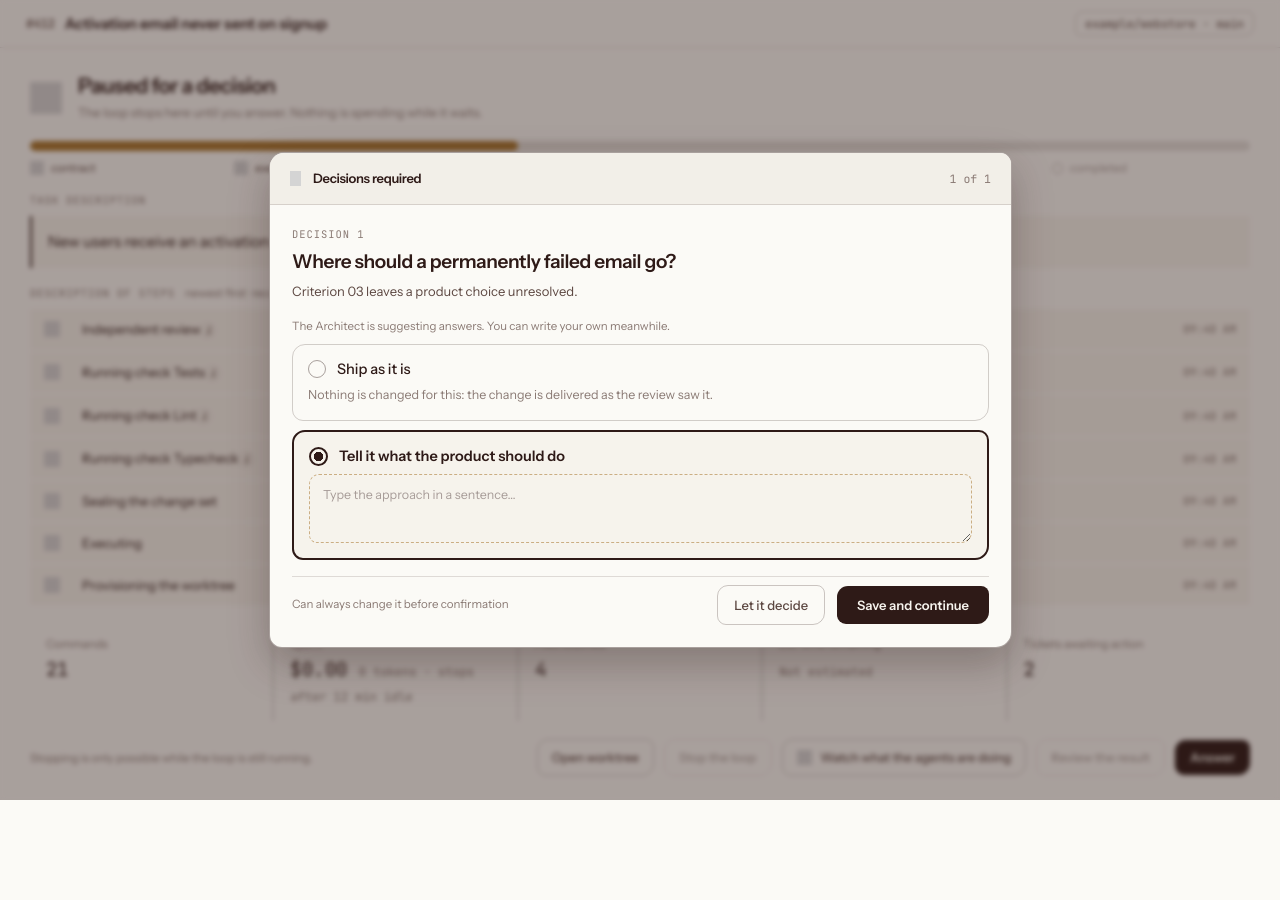
Test: a decision beside a run › waits while a readiness check of its repository is under way
Type "Park it on the dead-letter queue." into the text box named "Your approach" at [640, 509], box [308,474,972,543]
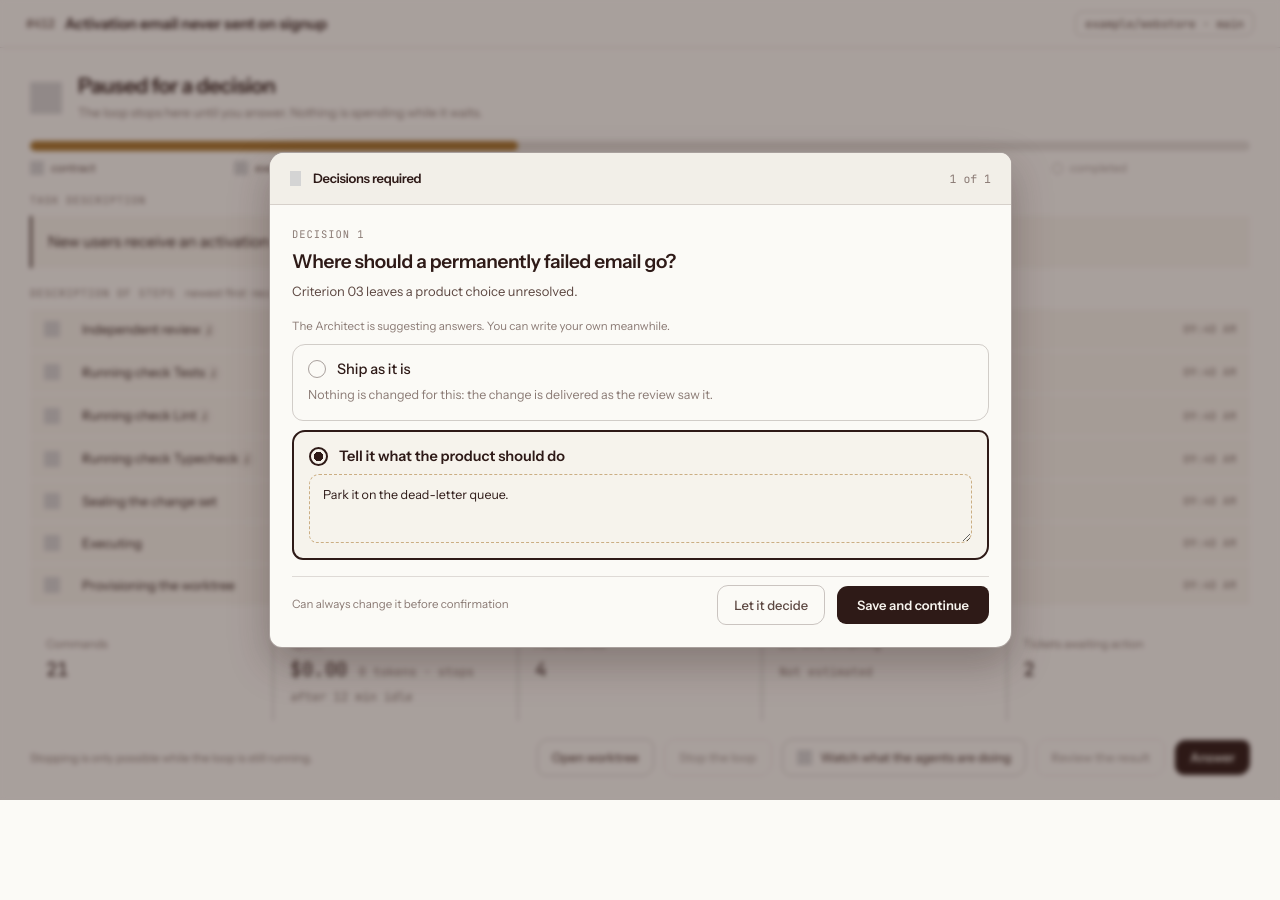
Press Enter in the text box named "Your approach", box [308,474,972,543]
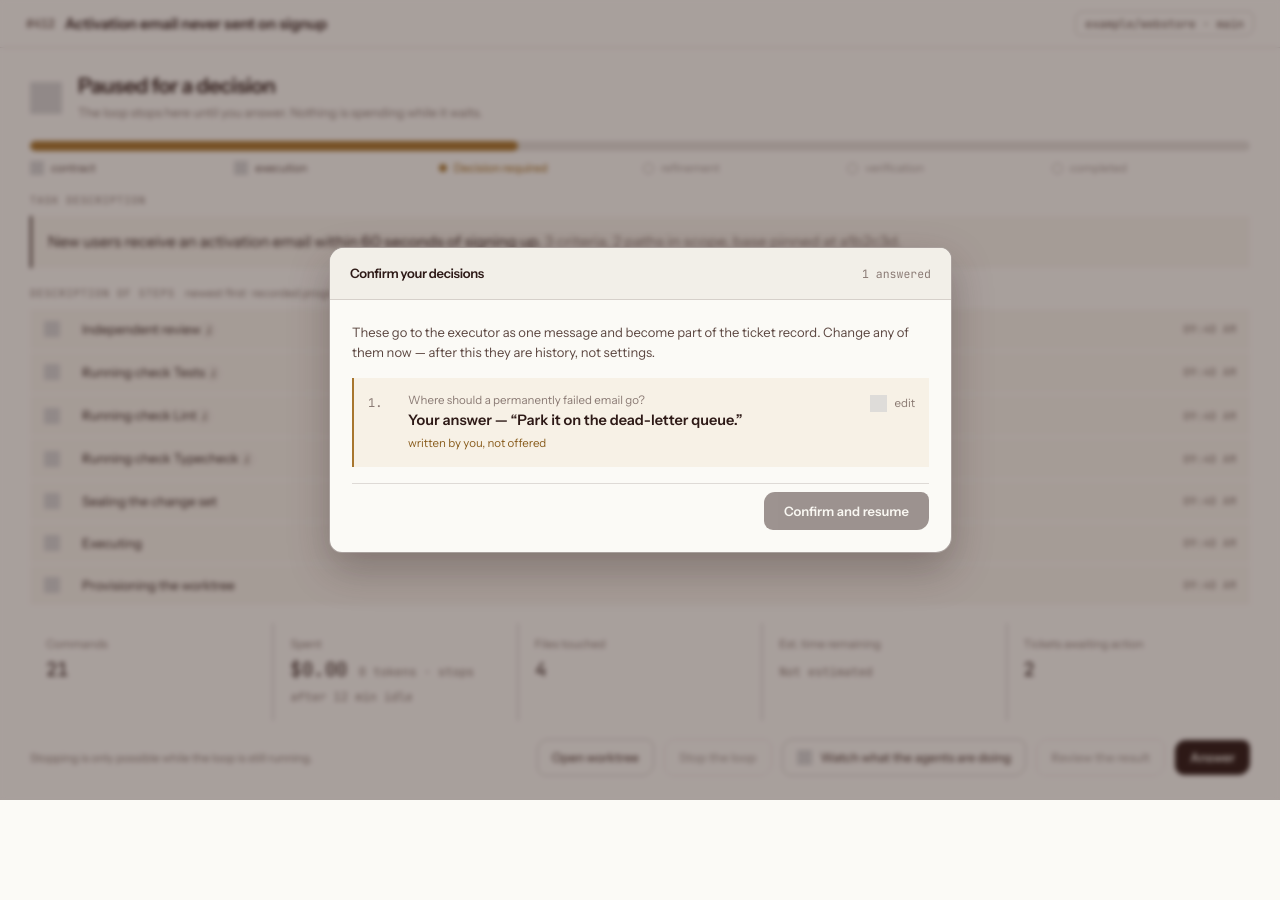
Expected: the button "Confirm and resume" is disabled, [763,492,928,530]
